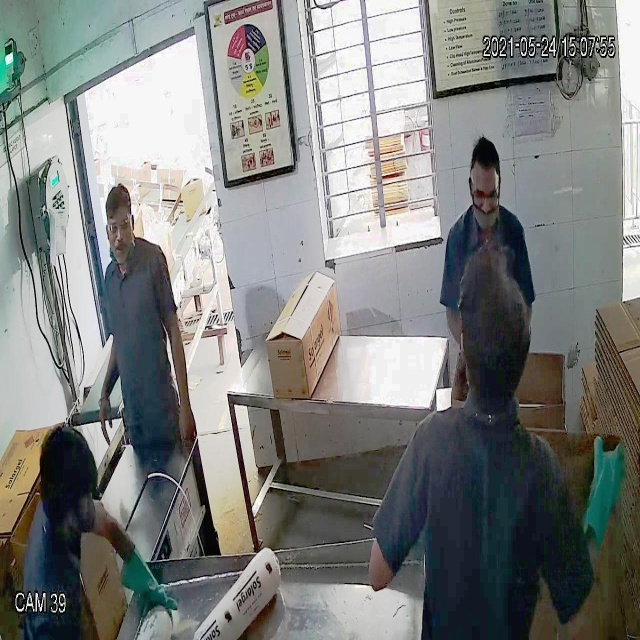Gafas: (468, 174, 502, 211), (102, 213, 135, 238)
